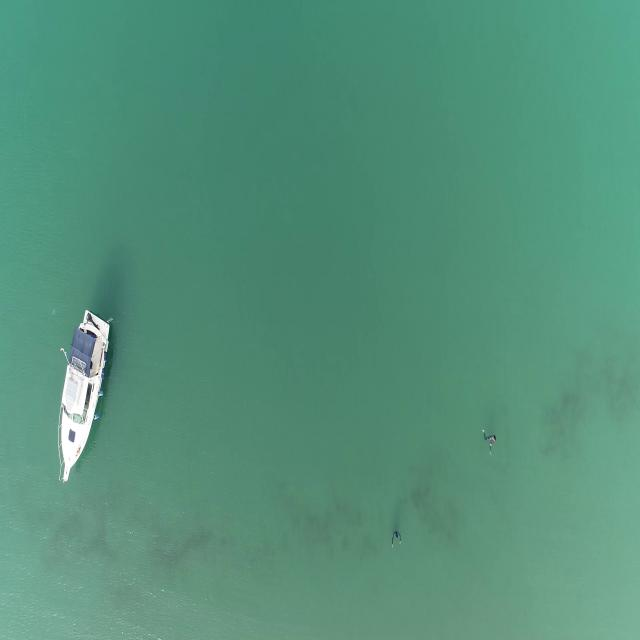boat: (53, 309, 114, 484)
person: (481, 430, 496, 452), (389, 529, 403, 552)
